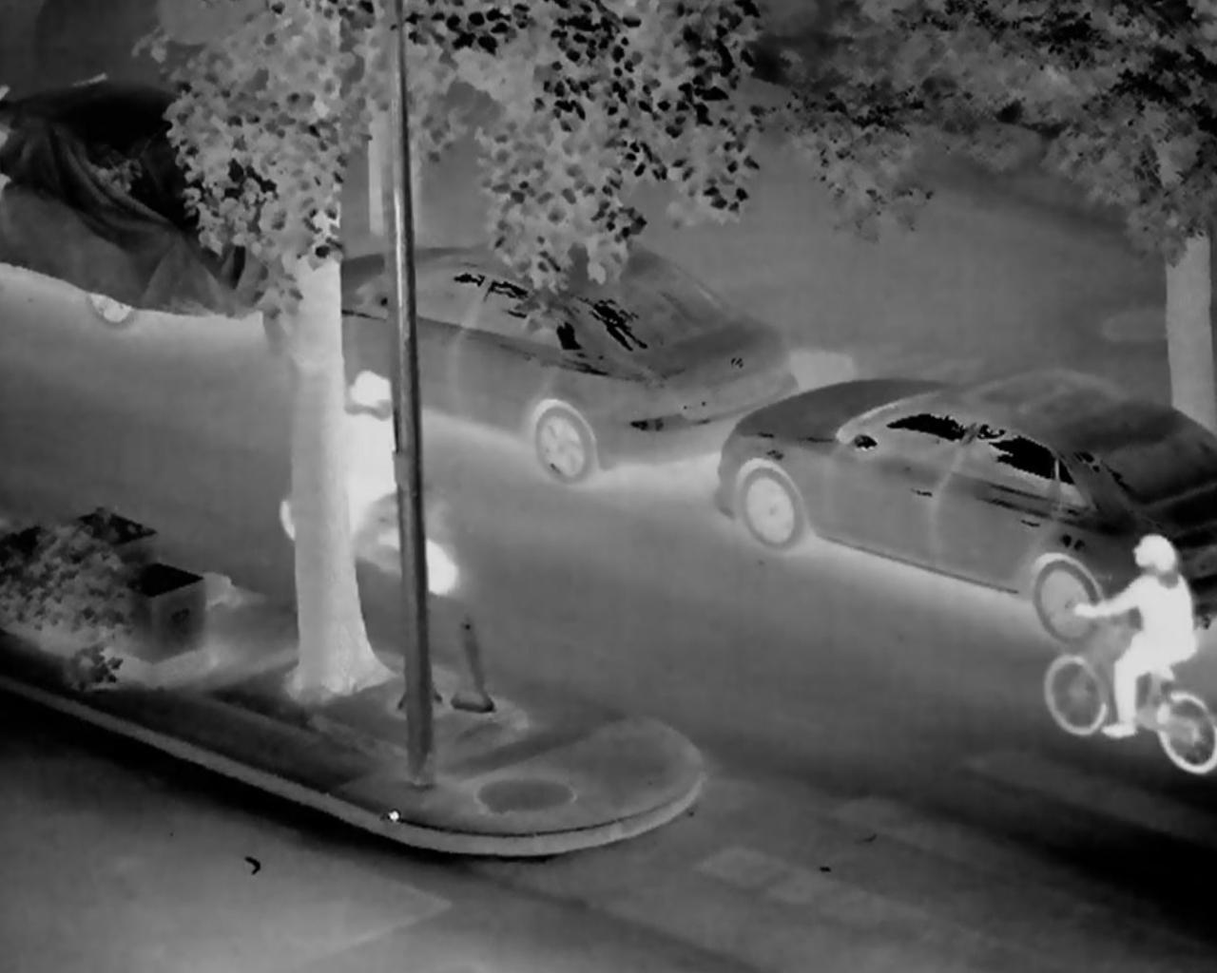person: (1070, 529, 1198, 732), (313, 364, 405, 544)
